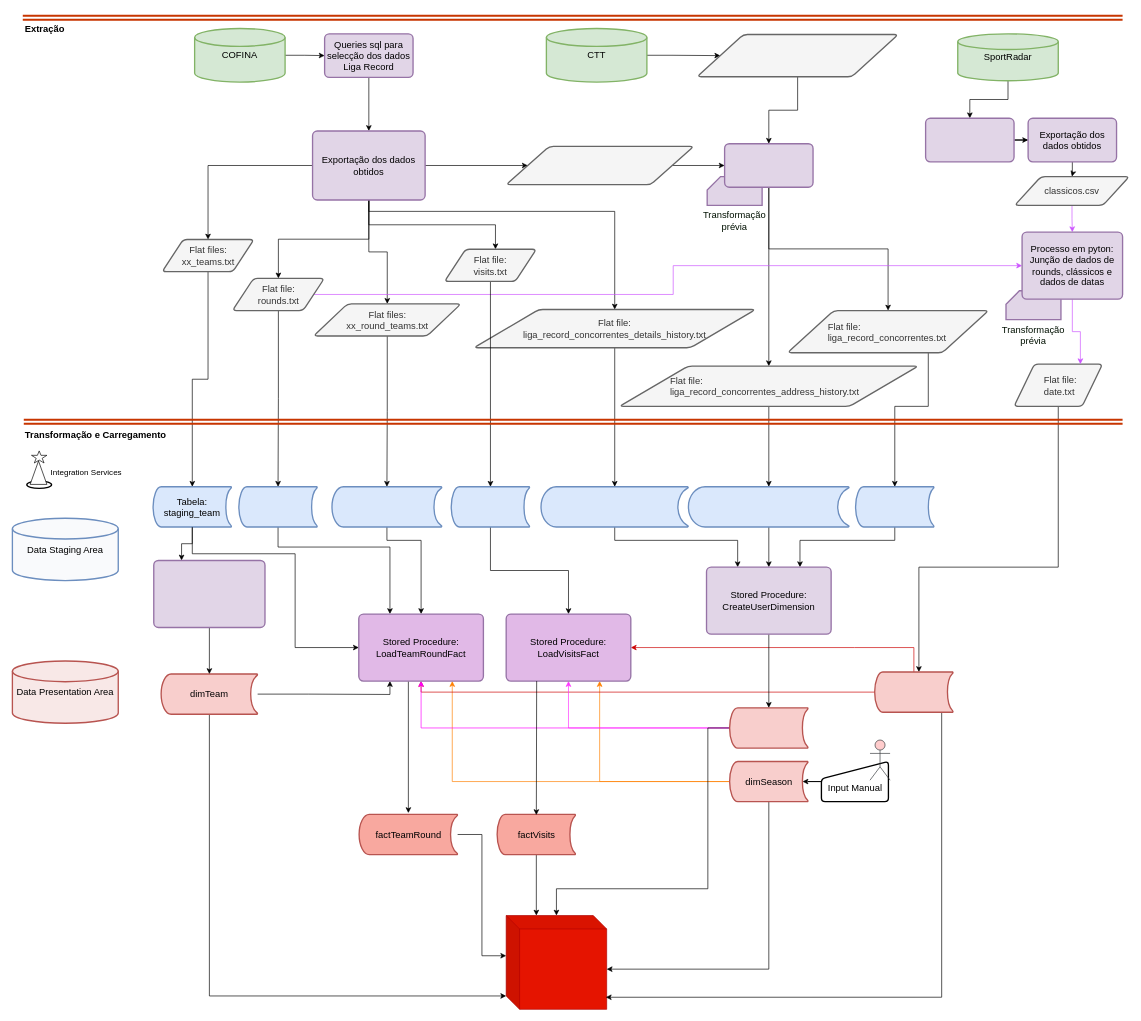
Some shapes in this 1141 by 1021 pixel diagram are drawn without their labels. Each missing label, with the centre of its shape:
"ctt_codigos_postais.json c tt_concelhos.json ctt_distritos.json" goes at pixel 797 55.
"Cubo de dados" goes at pixel 556 962.
"dimDate" goes at pixel 913 692.
"dimUser" goes at pixel 768 727.
"Processo em pyton: addressFinder.py" goes at pixel 768 165.
"Query sql para selecção dos jogos classicos" goes at pixel 969 139.
"Stored Procedure: CreateTeamDimension" goes at pixel 209 593.
"Tabela: staging_round" goes at pixel 278 506.
"Tabela: staging_team_round" goes at pixel 386 506.
"Tabela: staging_user" goes at pixel 894 506.
"Tabela: staging_user_address_history" goes at pixel 768 506.
"Tabela: staging_user_details_history" goes at pixel 614 506.
"Tabela: staging_visits" goes at pixel 490 506.
"users.csv user_moradas_historico.csv" goes at pixel 599 165.
